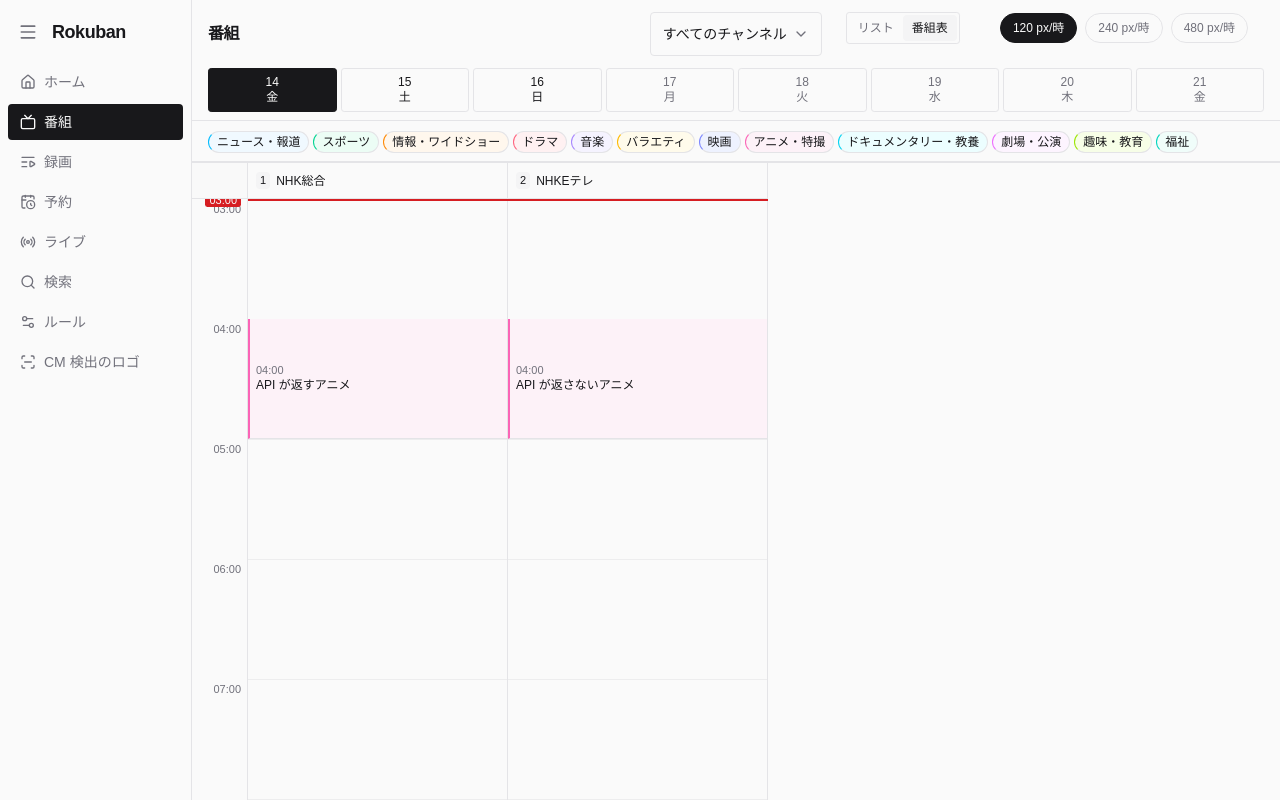
Test: ProgramsPage の表示形式 › 凡例のジャンルは URL 条件になり、API 応答だけが一致セルを決める
The width and height of the screenshot is (1280, 800).
Step 1. Click the button "アニメ・特撮" → (789, 142), box [744,131,834,153]
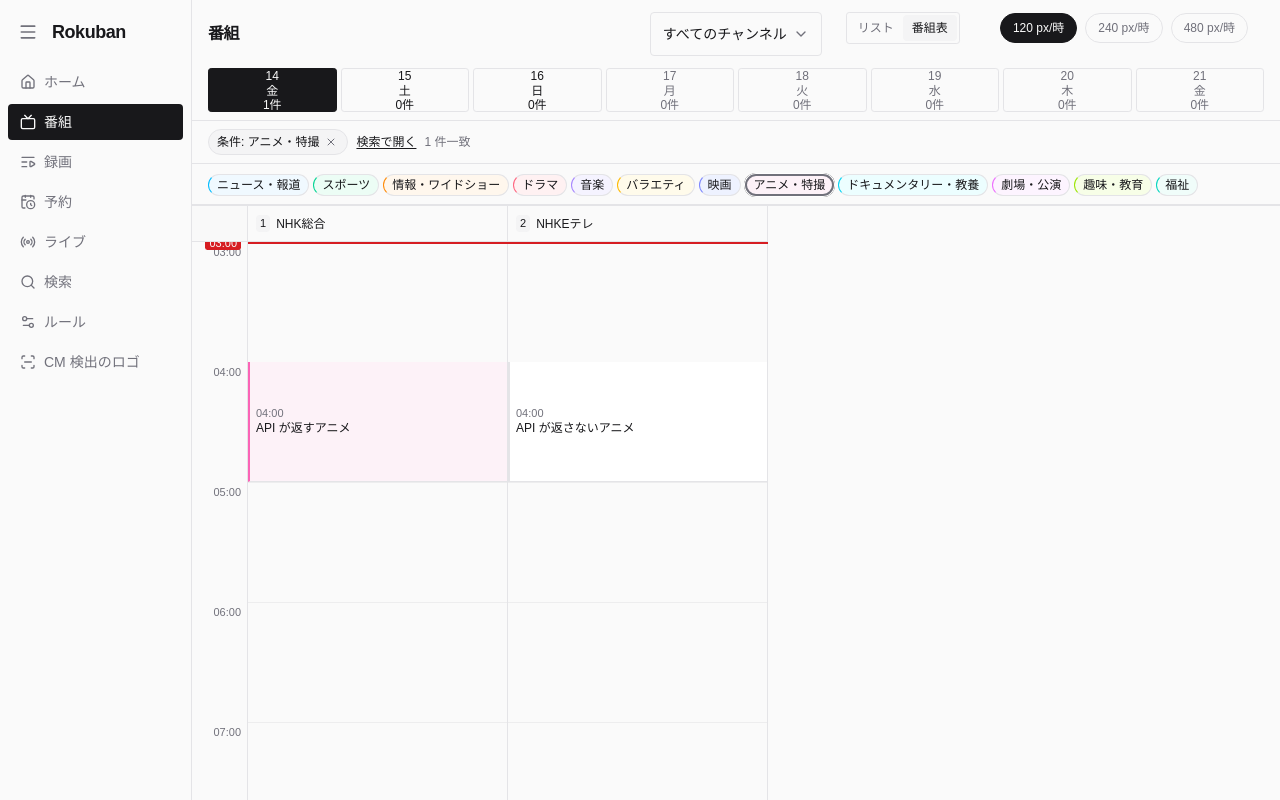
Check: the text "1 件一致" is shown, box [424,134,470,150]
